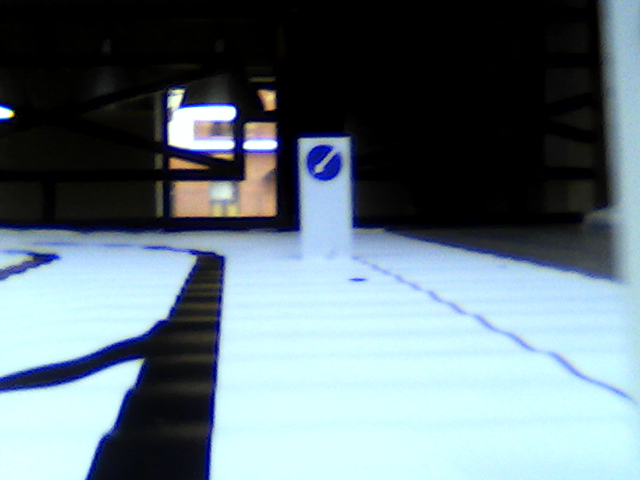prep: (305, 143, 343, 182)
